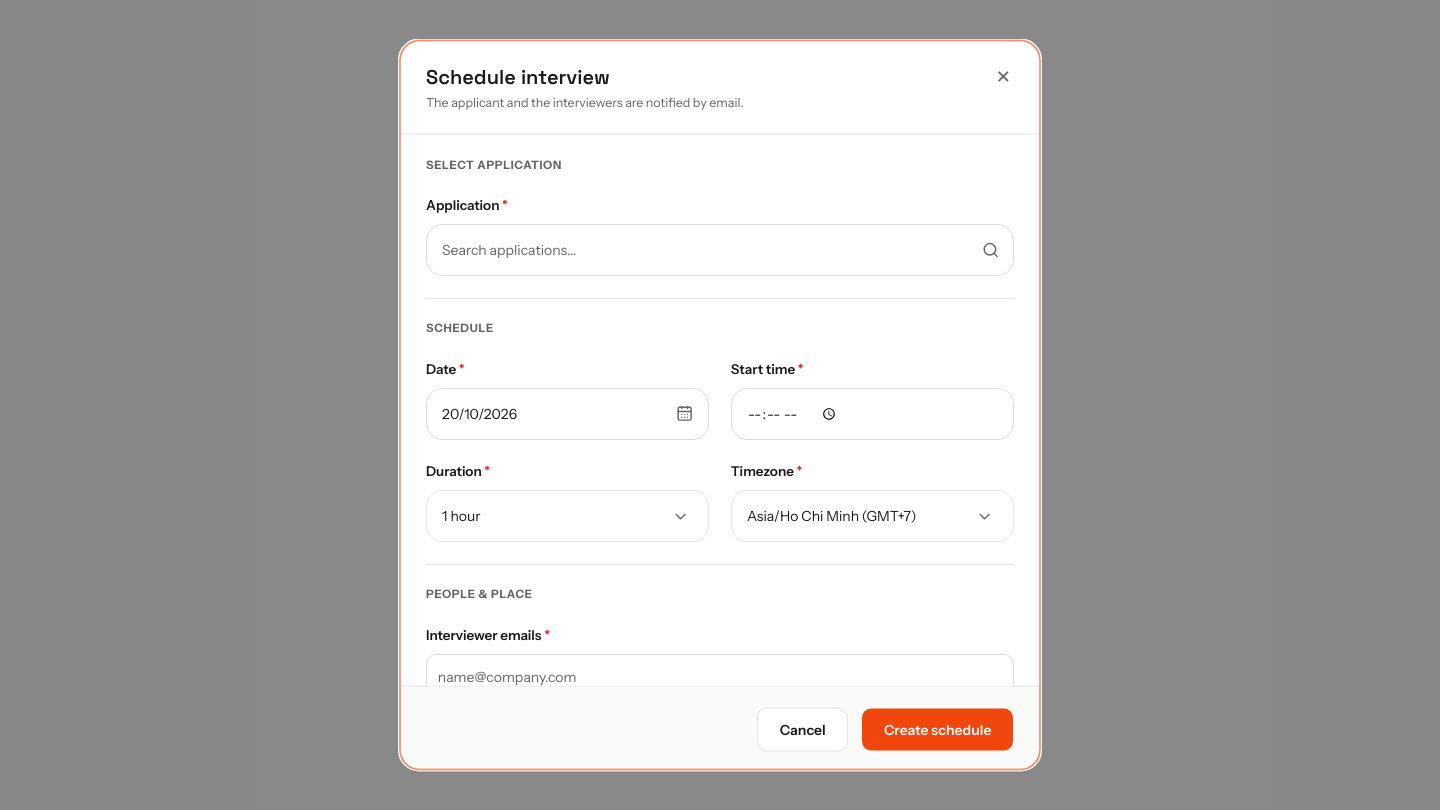
Test: Schedule interview dialog › refuses a link that is not https
The image size is (1440, 810).
Click the dropdown labelled "Application *" at (720, 250), box [426,224,1014,276]
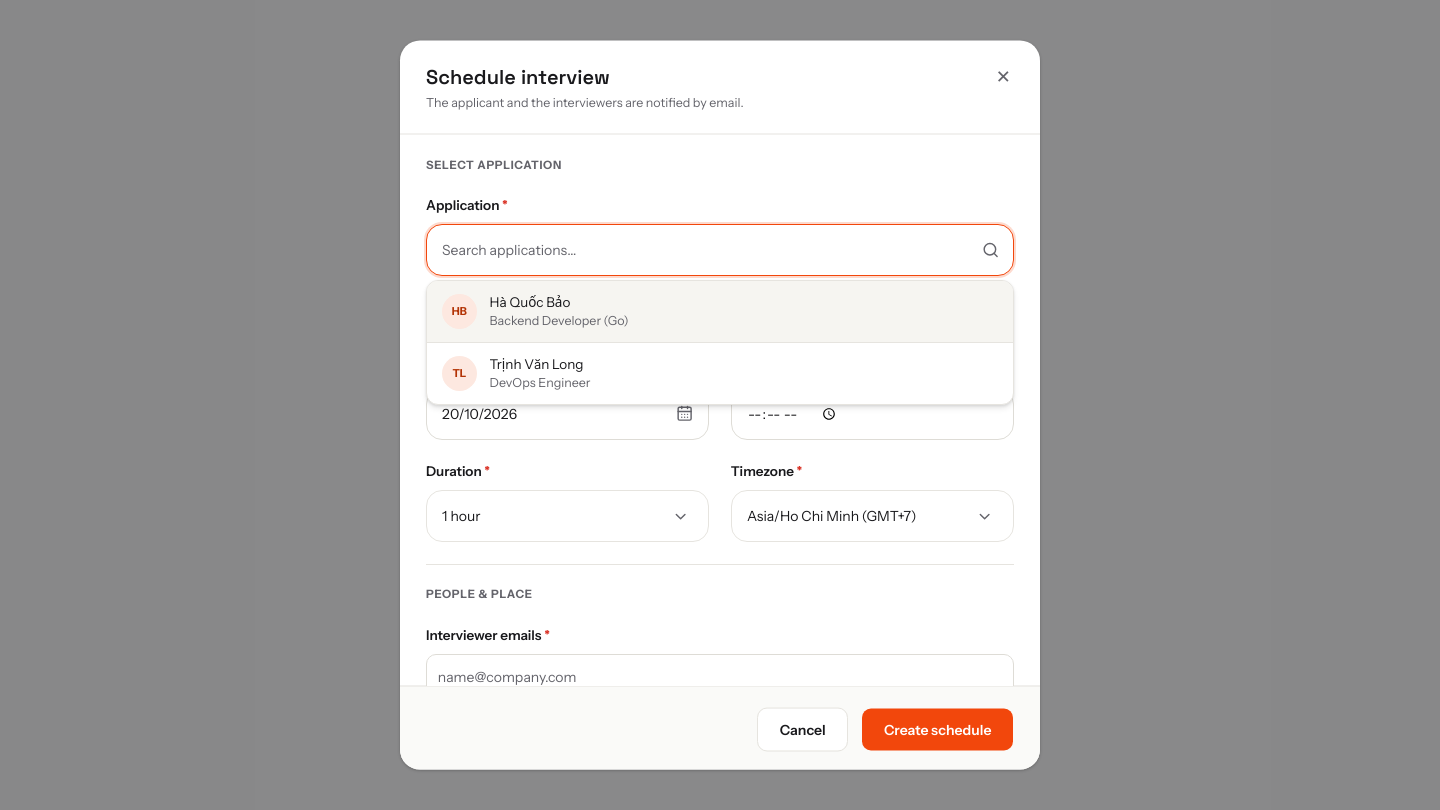
Click the option "HB Hà Quốc Bảo Backend Developer (Go)" at (459, 311), box [427,281,1013,342]
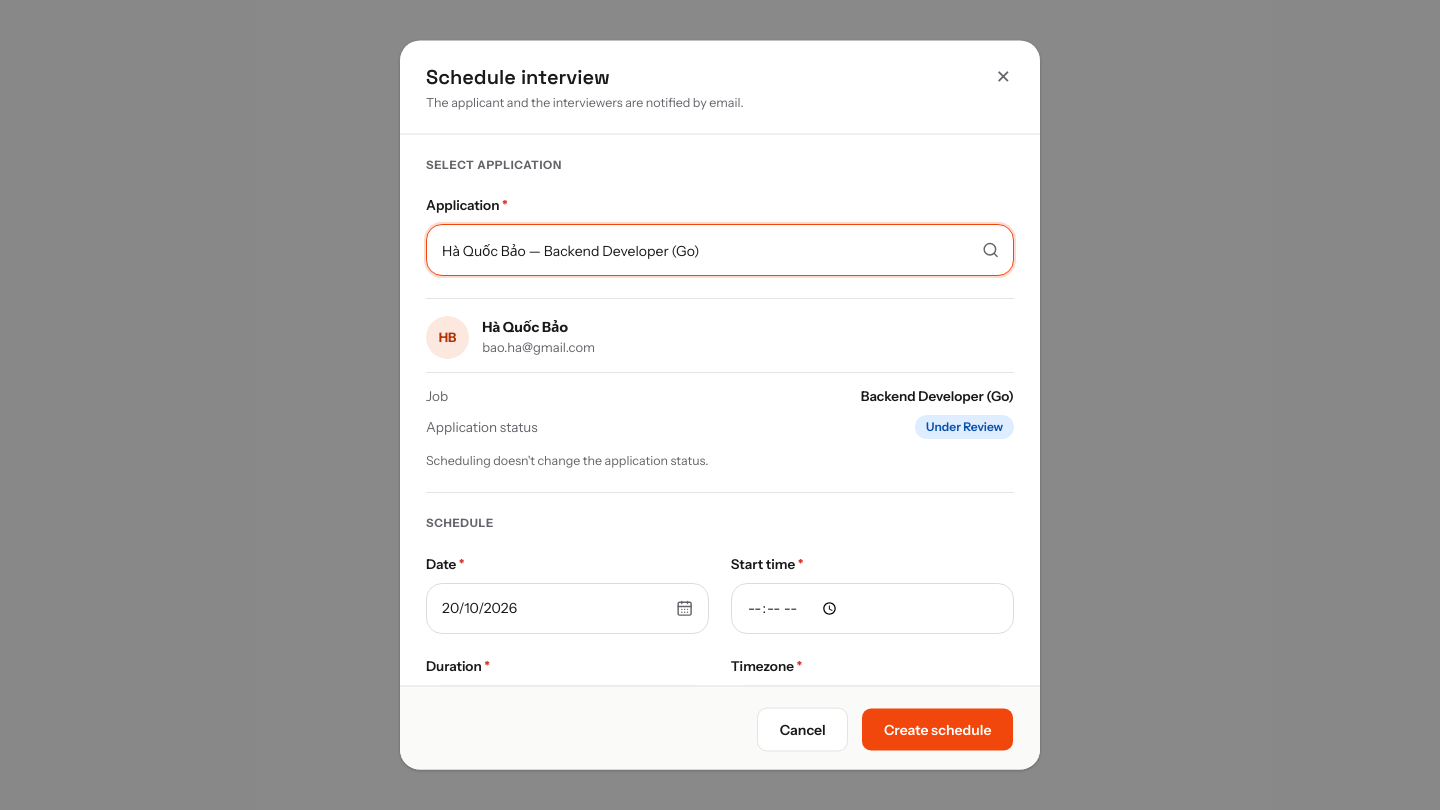
Type "10:00" into the time field labelled "Start time *" at (872, 608), box [731,582,1014,634]
(page scrolled)
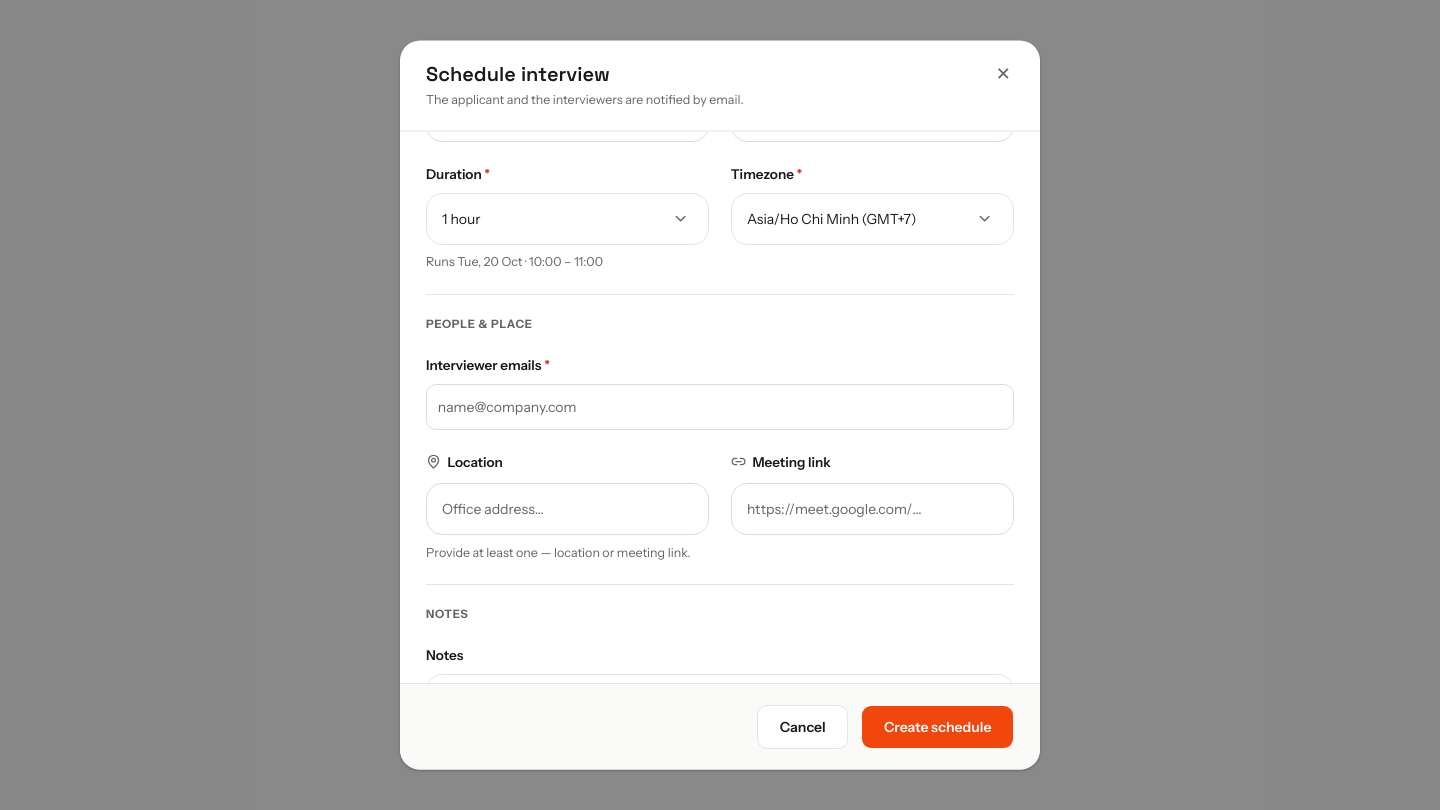
Type "nam.bui@novafintech.vn" into the field labelled "Interviewer emails *" at (720, 406), box [438,392,1002,421]
Then press Enter
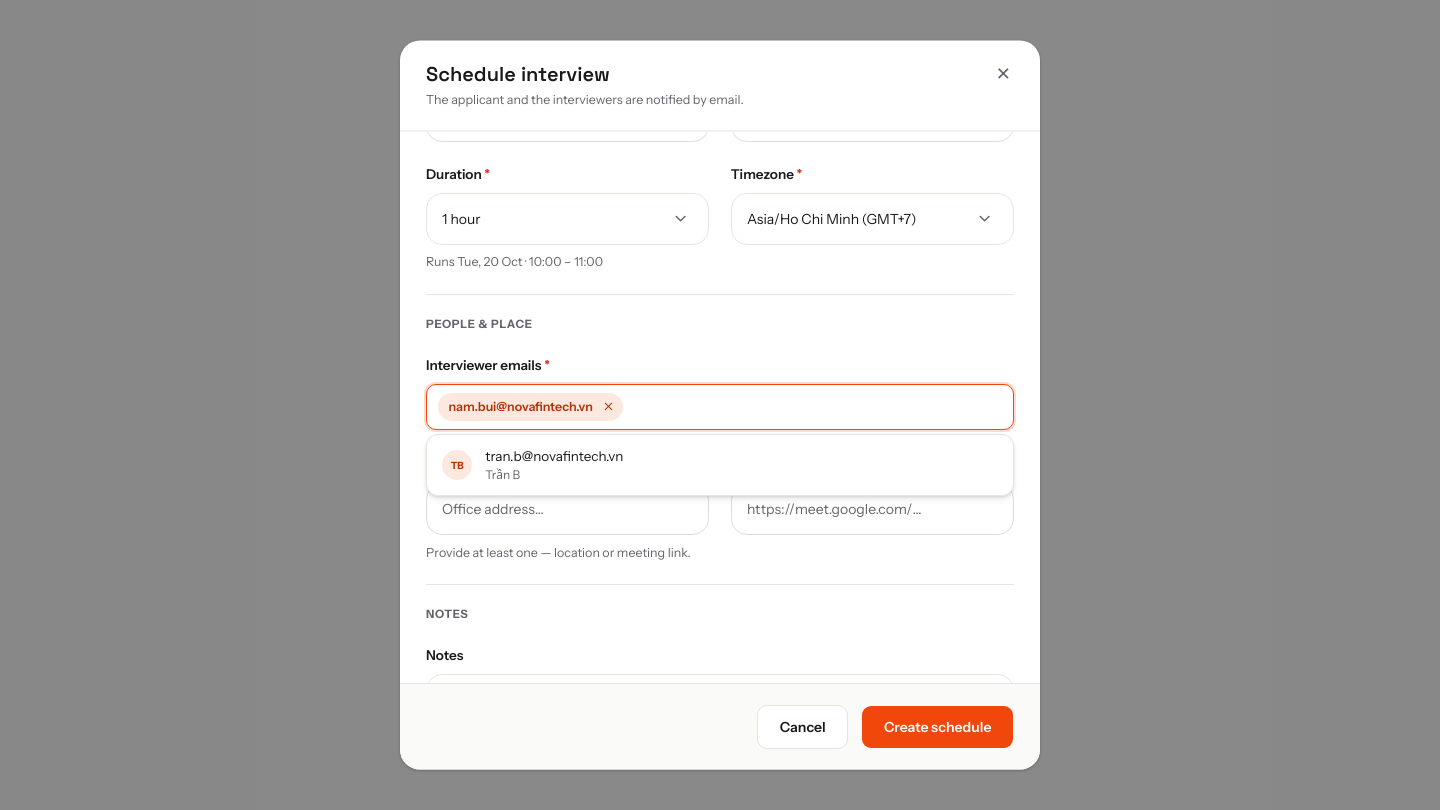
Expected: the text "nam.bui@novafintech.vn" is shown, [449,397,593,416]
Type "https://meet.google.com/kqr-pmzt-bvx" into the field labelled "Meeting link" at (872, 508), box [731,483,1014,534]
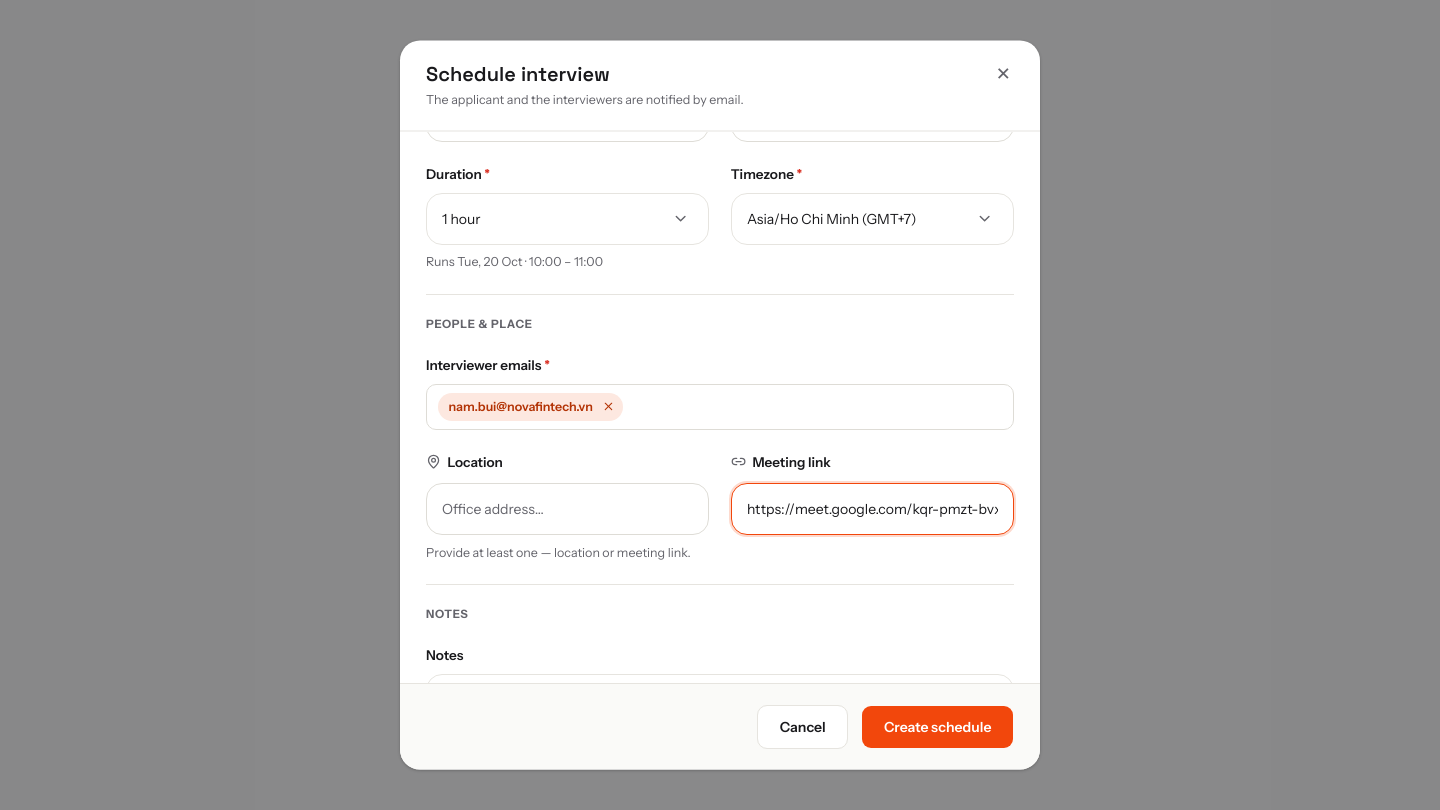
Replace the text in the field labelled "Meeting link" with "http://meet.example.com/x" at (872, 508), box [731,483,1014,534]
Click the button "Create schedule" at (938, 726), box [861,705,1014,748]
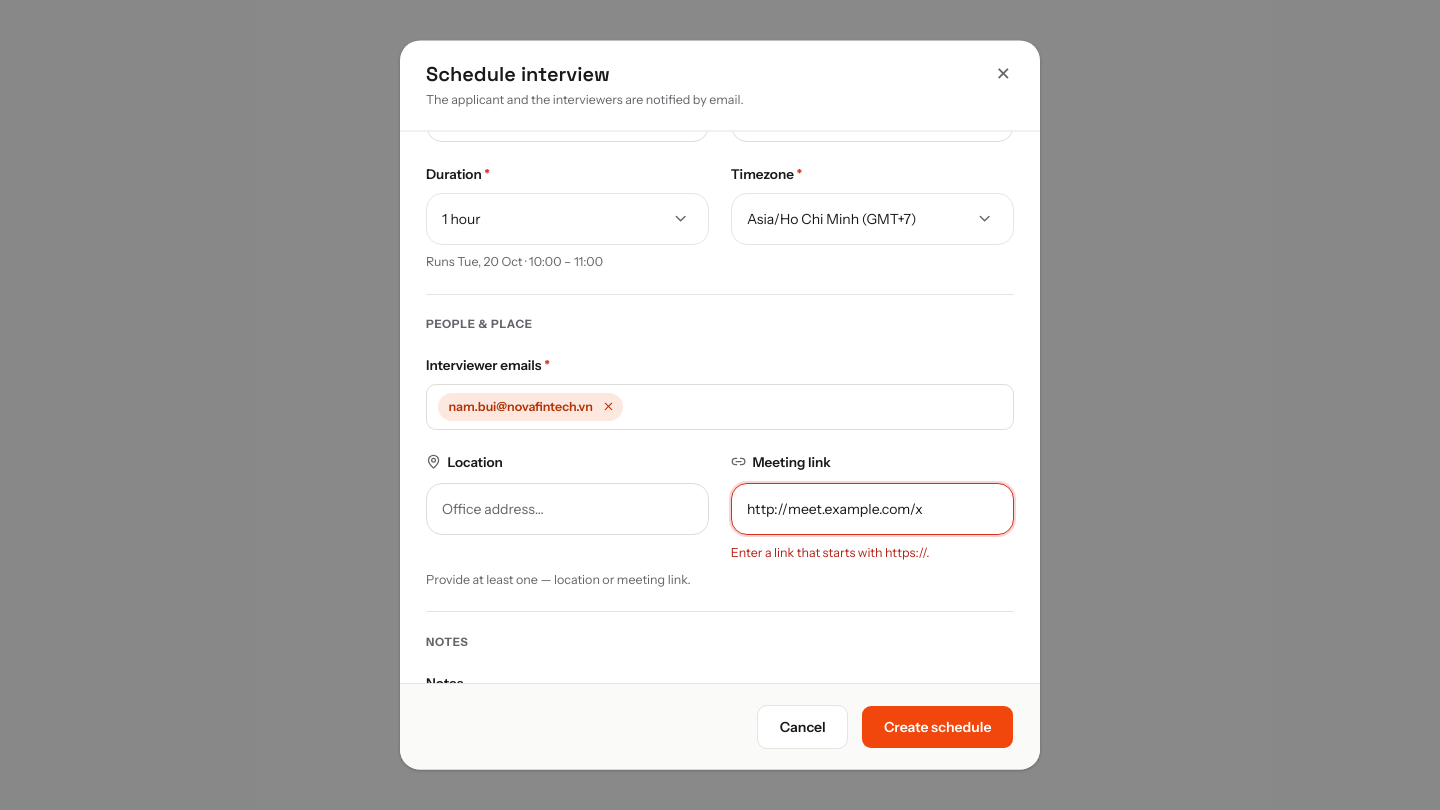
Expected: the text "Enter a link that starts with https://." is shown, [731,544,930,559]
